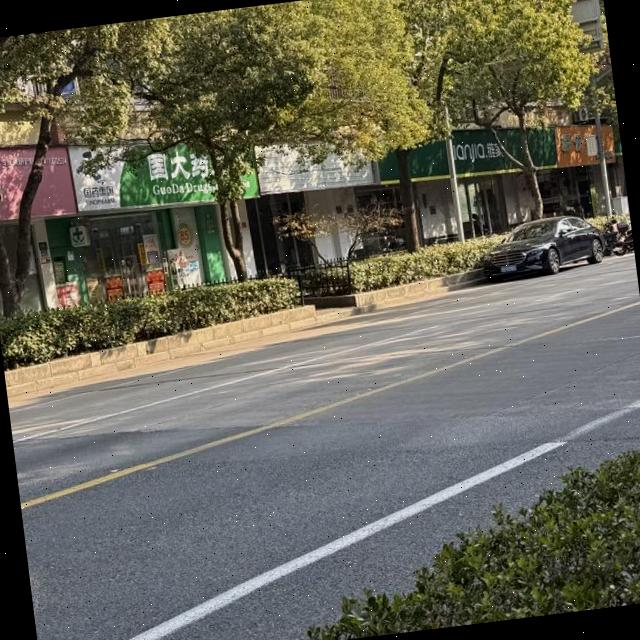curb: (6, 315, 322, 399), (4, 305, 315, 385), (323, 277, 491, 322), (310, 268, 484, 307)
